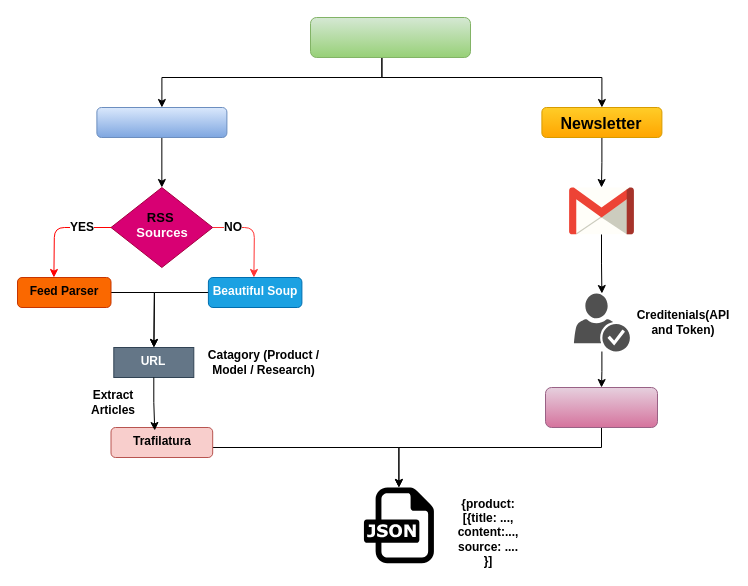
This 748x586 diagram has some shape labels left out. Here are the shapes that lost their labels. From the top down, the box of each, then its label:
(310, 16, 470, 58): Fetcher
(96, 106, 227, 138): Feed Fetcher
(544, 386, 658, 428): Extract Gmail Body
